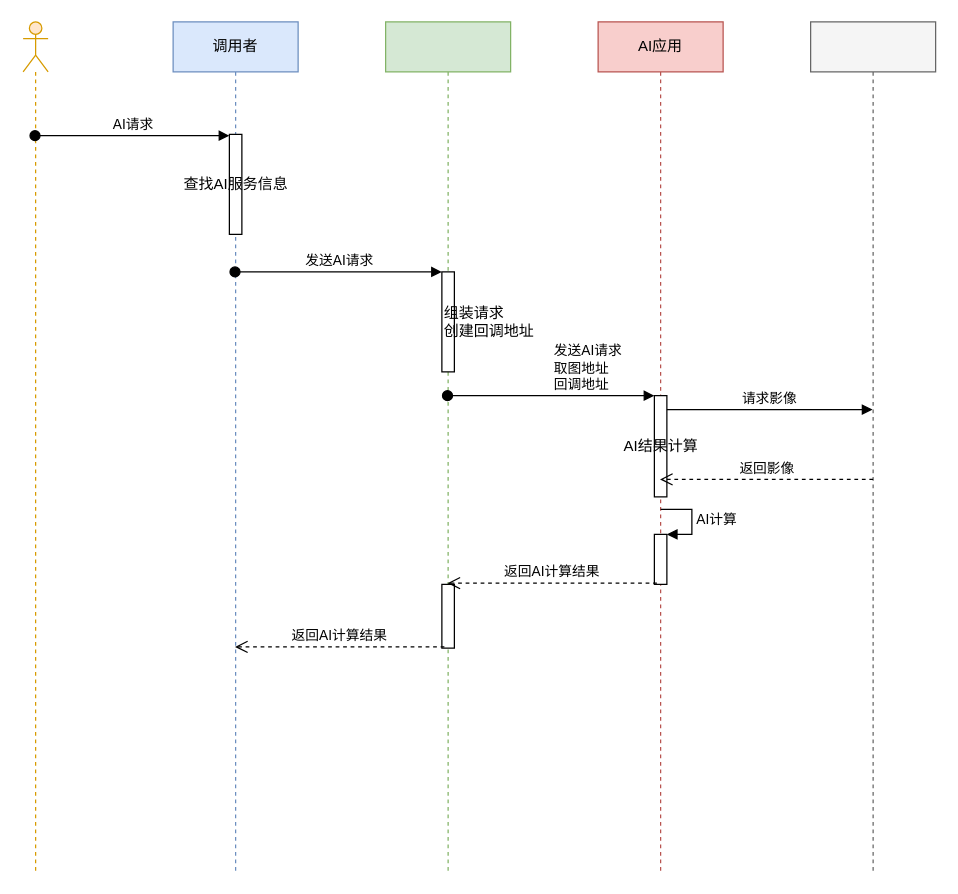
Some shapes in this 958 by 894 pixel diagram are drawn without their labels. Here are the shapes that lost their labels. From the top down, the box of each, then its label:
(384, 21, 511, 872): Exchange
(809, 21, 936, 872): Cetus/PACS
